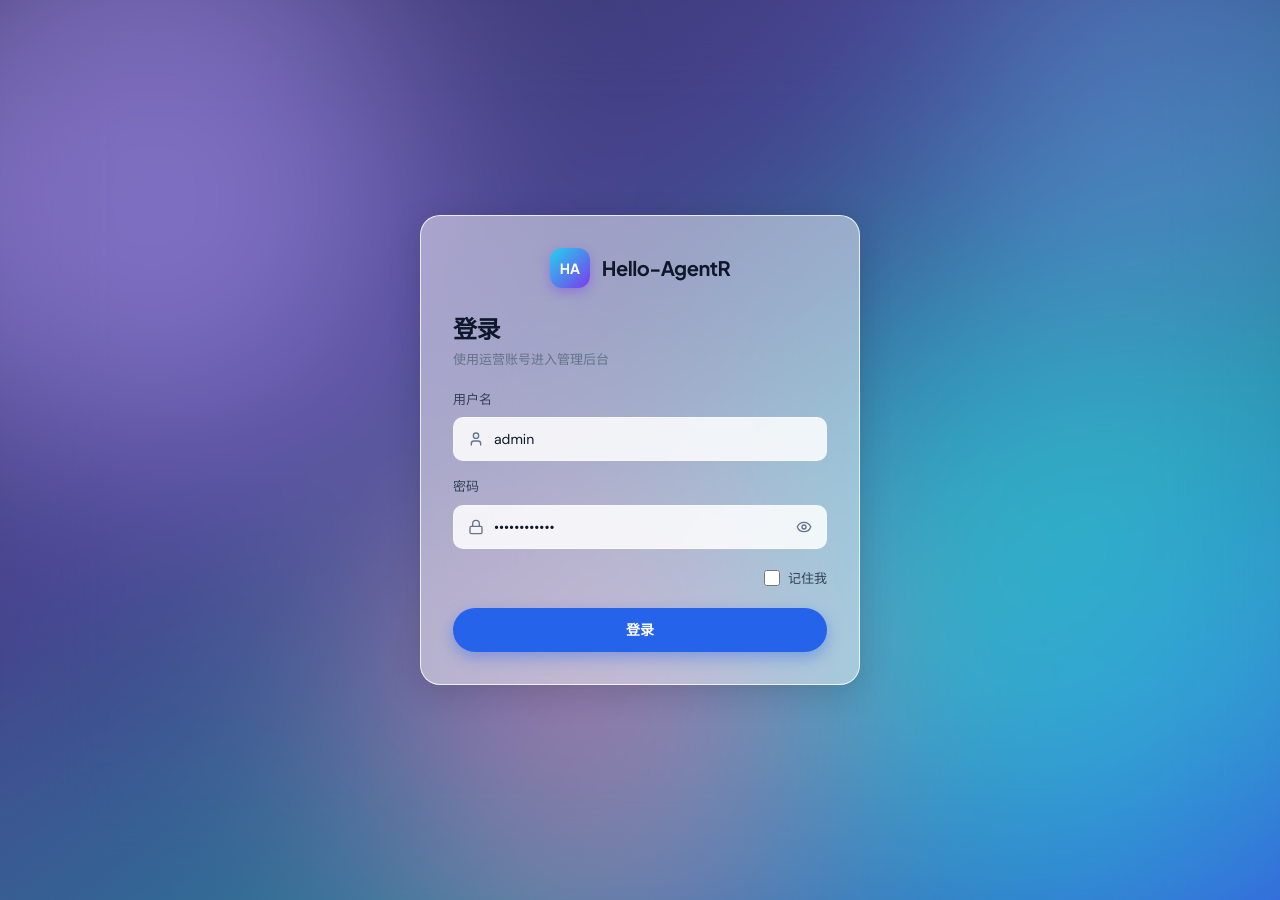
LoginPage › shows business error banner when login fails
The image size is (1280, 900).
In the password field labelled "密码": (640, 526) x1=494 y1=506 x2=786 y2=548, type "bad"
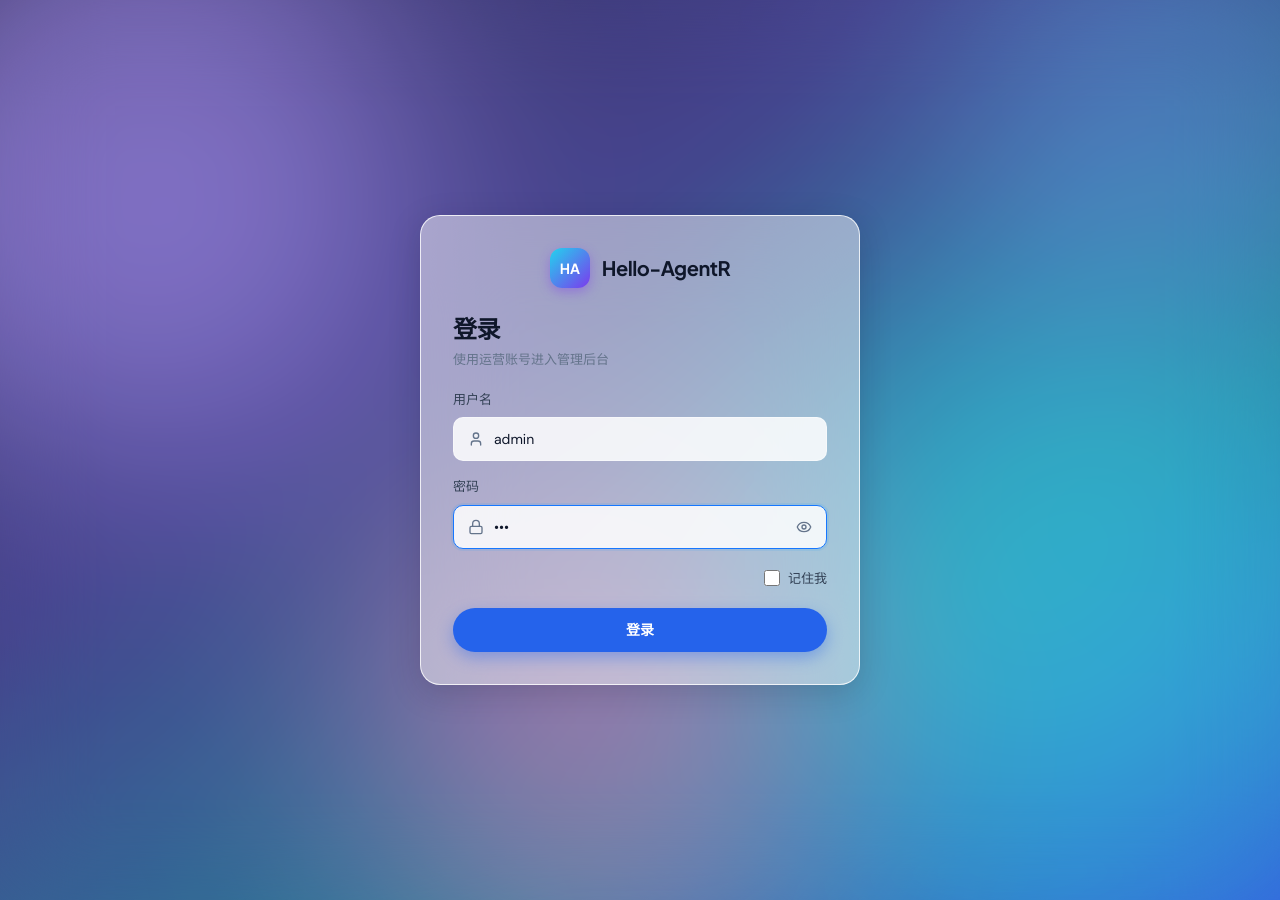
Click the button "登录": (640, 630) x1=453 y1=608 x2=827 y2=652
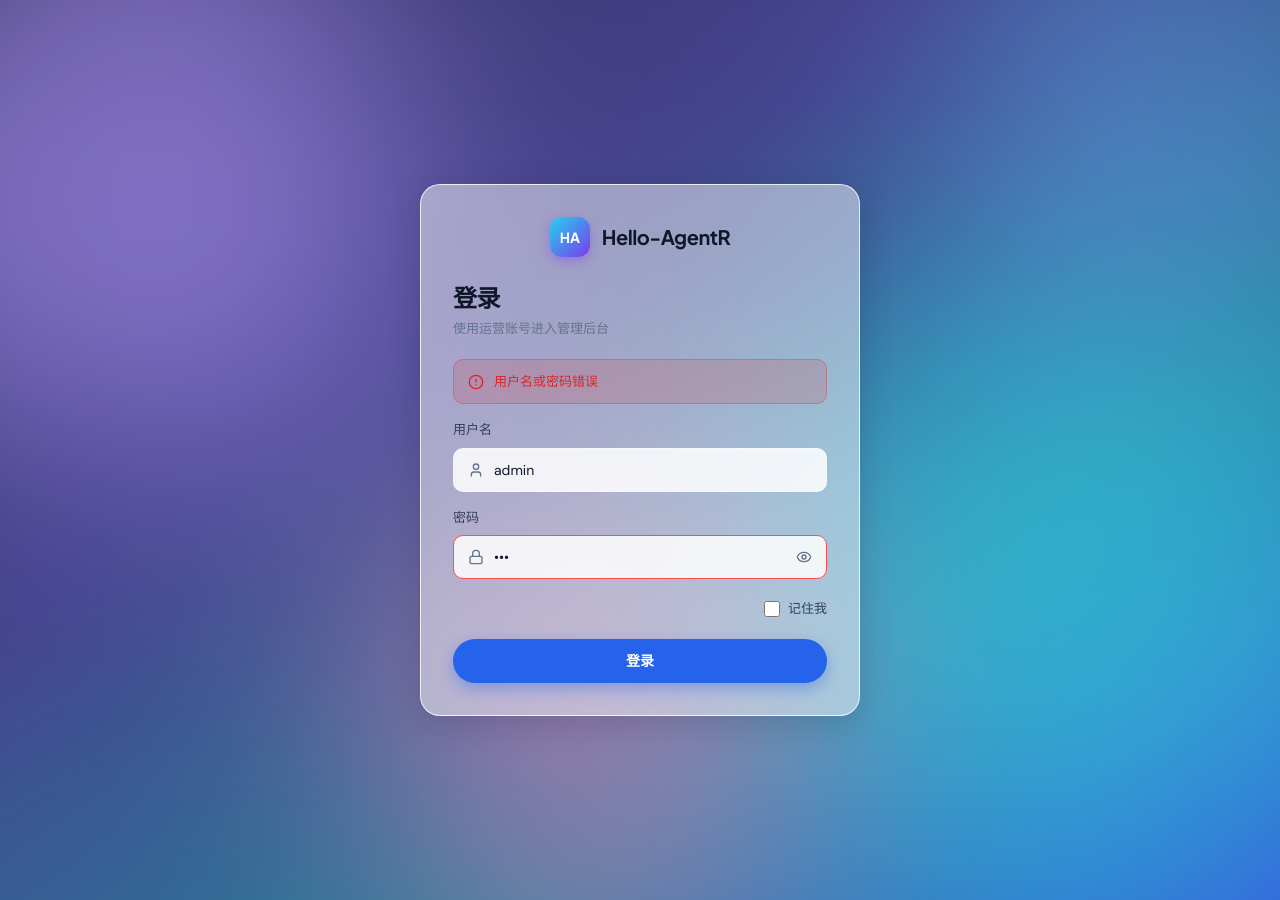
expect the message reads "用户名或密码错误": met, box x1=494 y1=373 x2=598 y2=390
